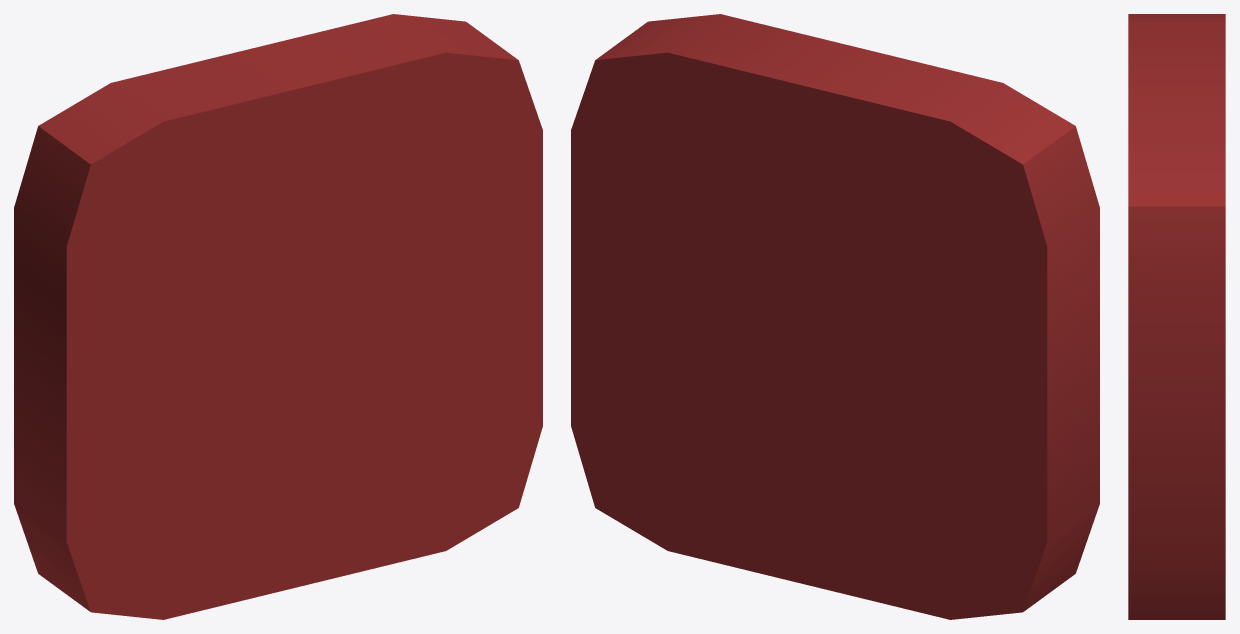
File: SM_pillow_03.fbx
3 views of the same model, side by side, from view 1: azimuth 30°, elevation 25°; view 2: azimuth 150°, elevation 25°; view 3: azimuth 270°, elevation 25° (orthographic). The views are drawn at different scales.
Parts seen in each view (by area): view 1: Box002; view 2: Box002; view 3: Box002.
Part boxes in pixels (box(x1,y1,x2,y2)): Box002: box(14, 14, 542, 619); Box002: box(571, 14, 1099, 619); Box002: box(1128, 14, 1225, 619).
Bounding box in the file's own units: 19.1 × 3.67 × 19.1.
